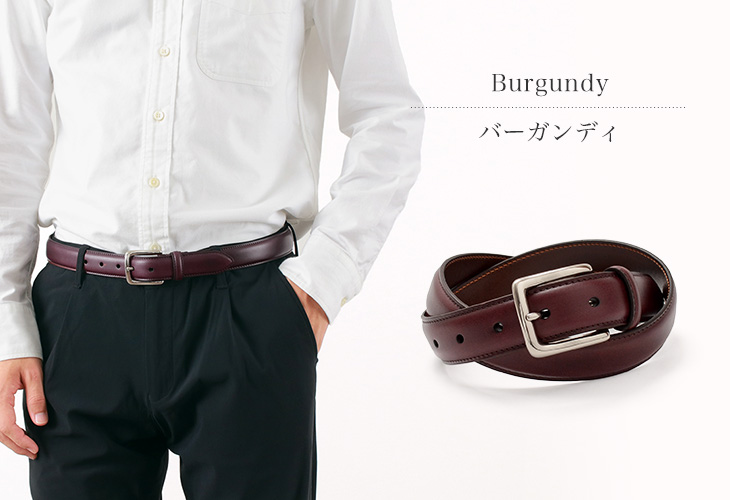F_belt: (43, 233, 300, 286)
F_shirt: (3, 1, 425, 360)
